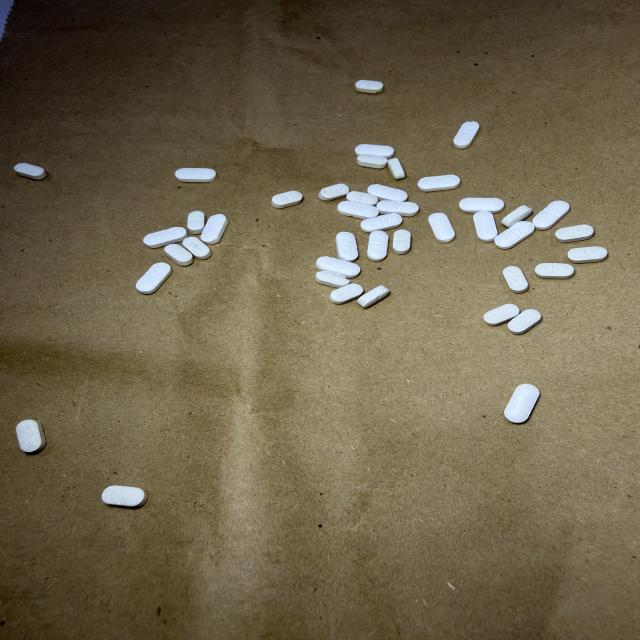pill: (505, 384, 539, 423), (495, 221, 535, 249), (136, 263, 172, 294), (532, 201, 569, 229), (102, 486, 147, 508), (16, 420, 45, 453), (316, 257, 360, 278), (144, 227, 187, 248), (201, 214, 228, 244), (508, 310, 541, 334), (483, 304, 519, 326), (428, 213, 455, 242), (418, 174, 460, 192), (338, 201, 379, 219), (361, 214, 402, 232), (474, 211, 497, 242), (358, 286, 390, 308), (503, 266, 529, 293), (330, 283, 363, 304), (368, 184, 408, 201), (459, 198, 504, 213), (454, 121, 479, 148), (555, 225, 594, 242), (568, 247, 608, 263), (336, 232, 358, 261), (377, 201, 419, 216), (367, 231, 388, 261), (502, 206, 532, 227), (183, 237, 211, 259), (165, 244, 193, 265), (535, 264, 574, 279), (175, 168, 216, 182), (355, 144, 394, 158), (316, 271, 349, 287), (14, 163, 46, 179), (319, 184, 349, 201), (272, 191, 302, 208), (393, 230, 411, 254), (347, 192, 377, 206), (188, 211, 205, 234), (357, 155, 387, 168), (388, 158, 405, 180), (355, 80, 383, 93)
